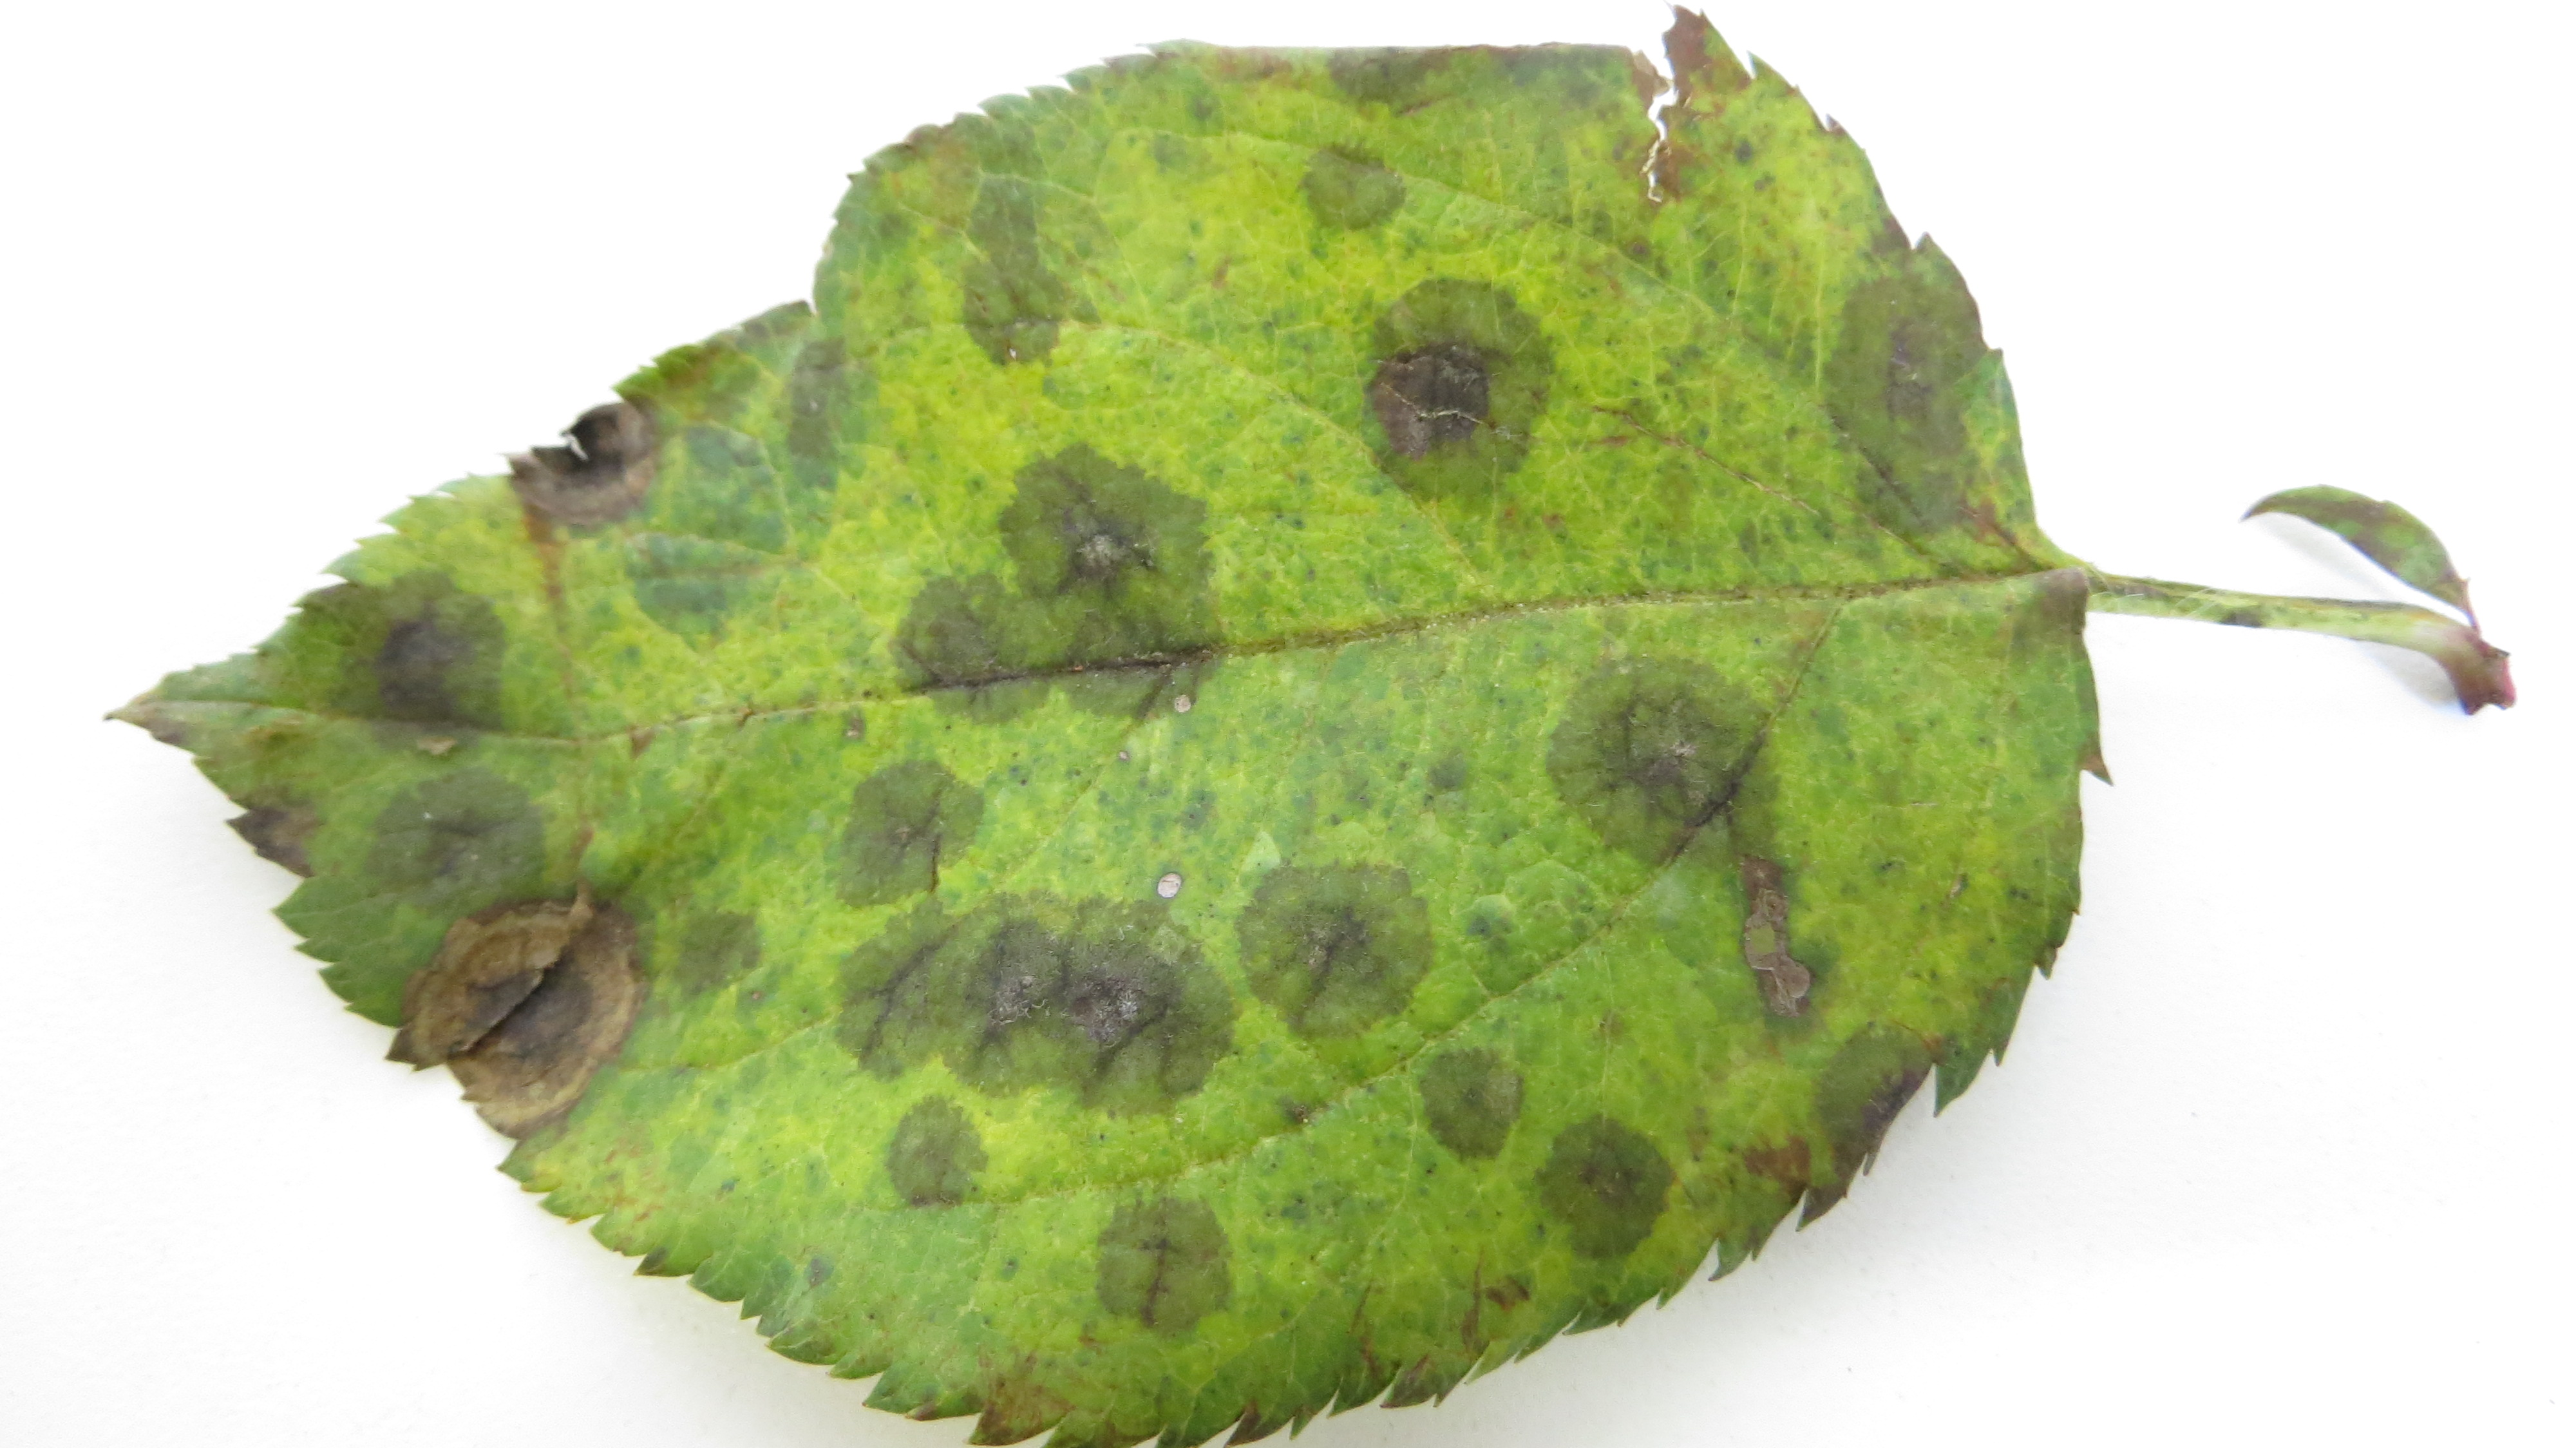sarna: (860, 892, 1246, 1124), (389, 889, 665, 1147), (1545, 639, 1803, 890), (1016, 441, 1233, 729), (1359, 269, 1568, 515), (1238, 846, 1442, 1057), (1831, 280, 1996, 531), (803, 740, 1007, 906), (333, 575, 531, 740), (954, 143, 1090, 379), (497, 375, 665, 554), (368, 761, 564, 908), (879, 566, 1051, 720), (1734, 848, 1844, 1087), (1525, 1099, 1672, 1266), (1093, 1186, 1235, 1347), (1799, 1014, 1937, 1175), (1407, 1028, 1537, 1175), (764, 326, 890, 478), (874, 1090, 1001, 1220), (681, 899, 798, 1021), (1322, 19, 1451, 122), (1293, 149, 1412, 239)
